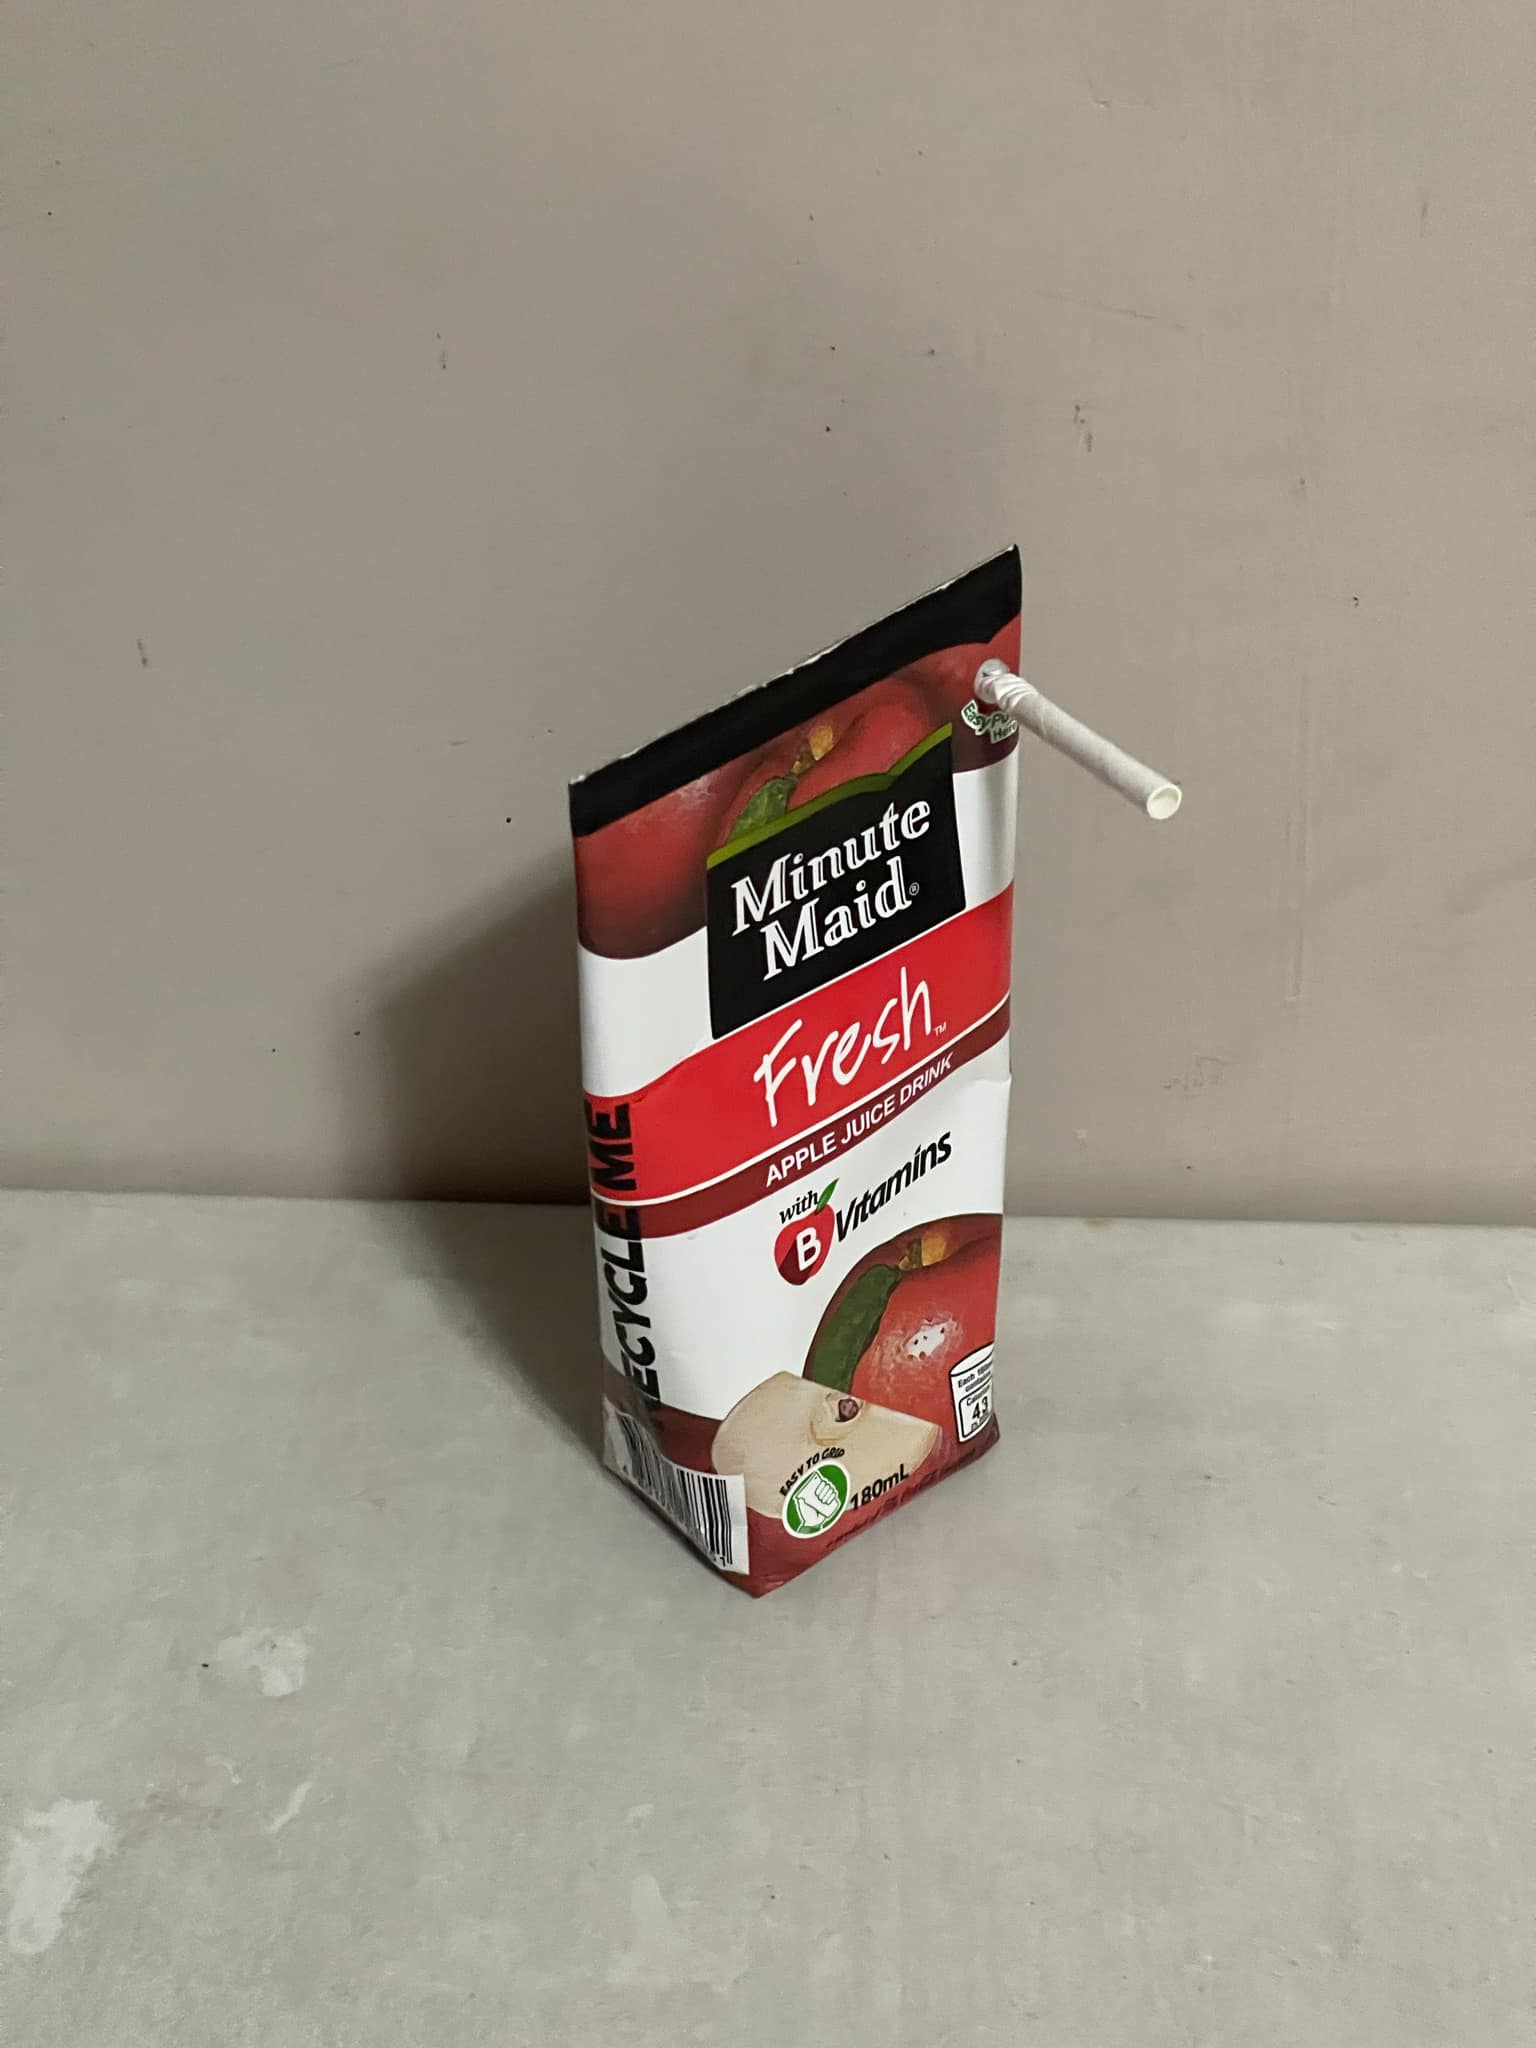Juice Box: (432, 564, 1081, 1613)
